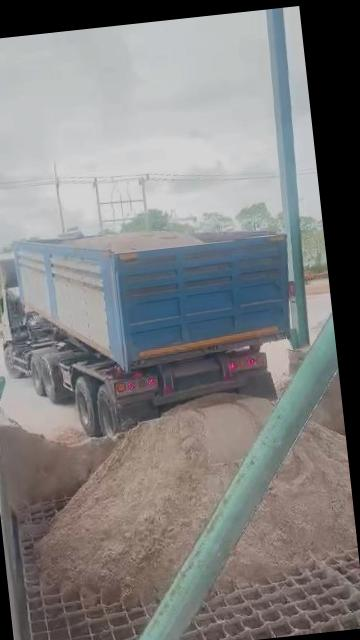sand: (40, 395, 270, 601), (219, 423, 357, 586), (0, 420, 116, 510), (69, 231, 201, 254), (313, 372, 346, 434), (50, 428, 89, 445)
